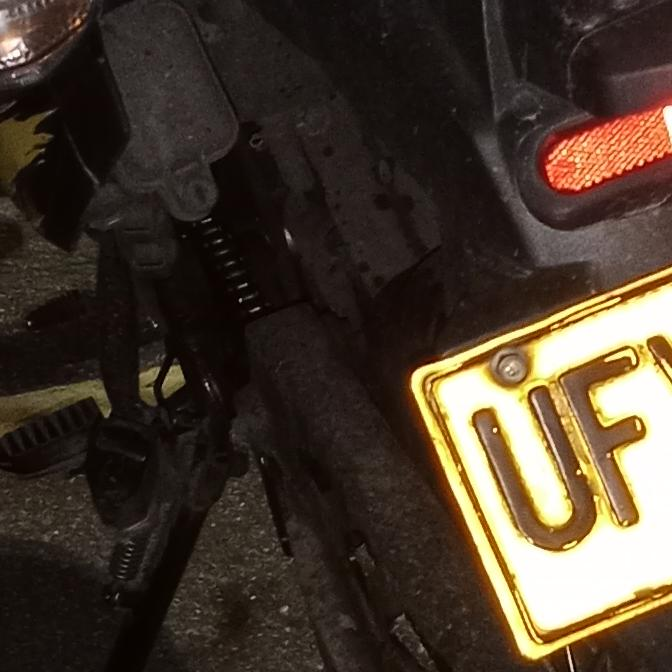plates: (409, 267, 672, 660)
